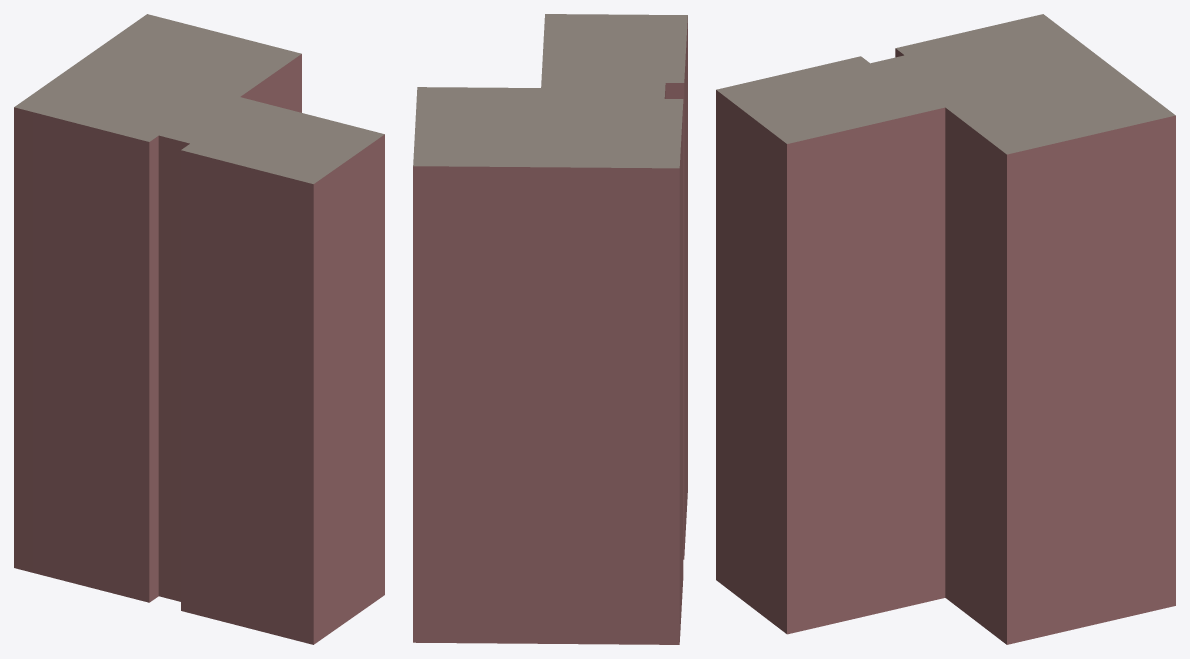
Rendered from nyc-1080830-0.glb.
3 renders of one model, left to right at view 1: azimuth 30°, elevation 25°; view 2: azimuth 150°, elevation 25°; view 3: azimuth 270°, elevation 25°, orthographic. The views are drawn at different scales.
Visible parts, largest first — view 1: nyc-1080830-0; view 2: nyc-1080830-0; view 3: nyc-1080830-0.
Boxes of the visible parts, bbox=[...] form: nyc-1080830-0: bbox=[14, 14, 384, 644]; nyc-1080830-0: bbox=[413, 14, 687, 644]; nyc-1080830-0: bbox=[716, 14, 1175, 644].
Bounding box in the file's own units: 55.59 × 90.39 × 76.82.
